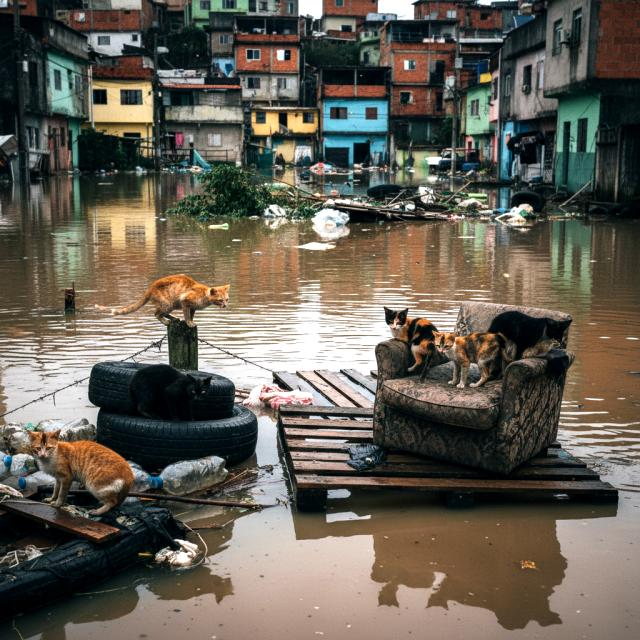cat: (25, 423, 134, 528), (92, 264, 233, 325), (428, 327, 510, 388), (488, 310, 574, 362), (379, 304, 440, 375)
